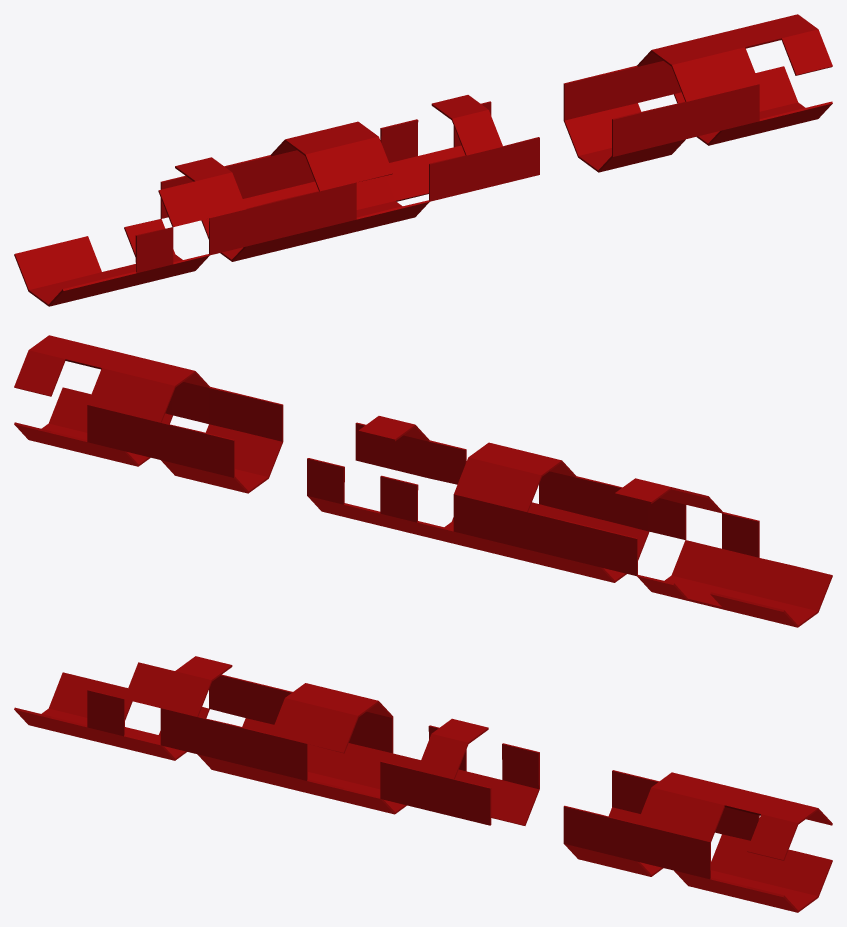
Rendered from level2.obj.
3 views of the same model, one above another, from view 1: azimuth 30°, elevation 25°; view 2: azimuth 150°, elevation 25°; view 3: azimuth 330°, elevation 25° (orthographic).
Parts seen in each view (by area): view 1: Cube_Cube.002; view 2: Cube_Cube.002; view 3: Cube_Cube.002.
Part boxes in pixels (bbox=[...]): Cube_Cube.002: bbox=[14, 14, 832, 306]; Cube_Cube.002: bbox=[14, 335, 832, 627]; Cube_Cube.002: bbox=[14, 656, 832, 912].
Bounding box in the file's own units: 20 × 2.23 × 2.23.
